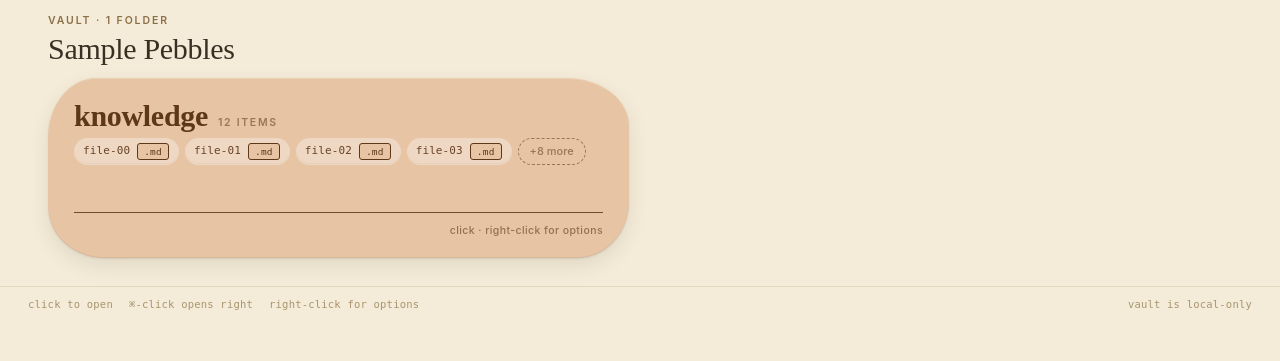
it: PebbleGarden › +N more expands hidden files inline rather than drilling
Expected: the button "knowledge" is shown, 74,100 -> 208,132
Click the button "+8 more".
click(552, 151)  # box 518,138 -> 586,165
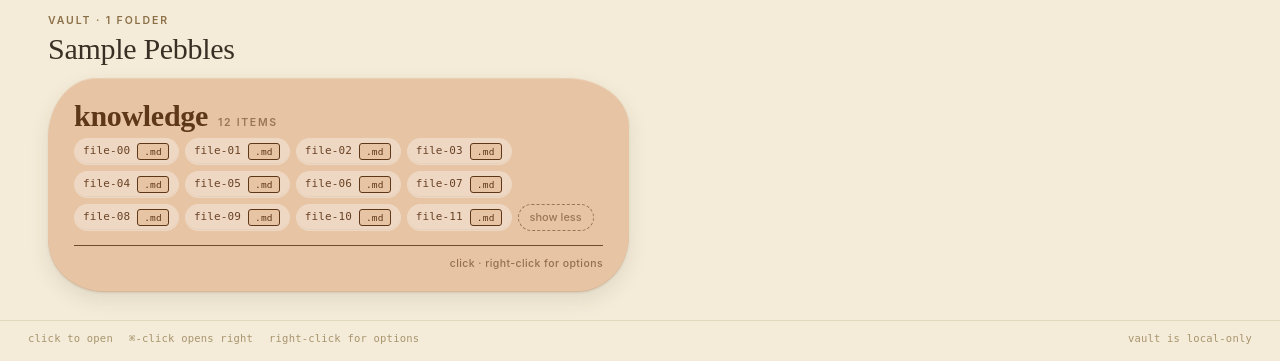
Expected: the heading "Sample Pebbles" is shown, 48,33 -> 235,64
Now the number of buttons with class "swirlread-pebble__file-pill" is 12
